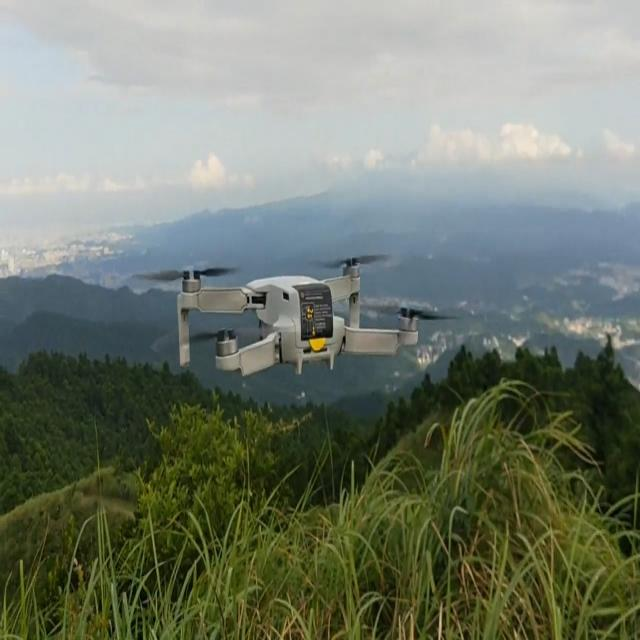Drone: (144, 220, 457, 410)
